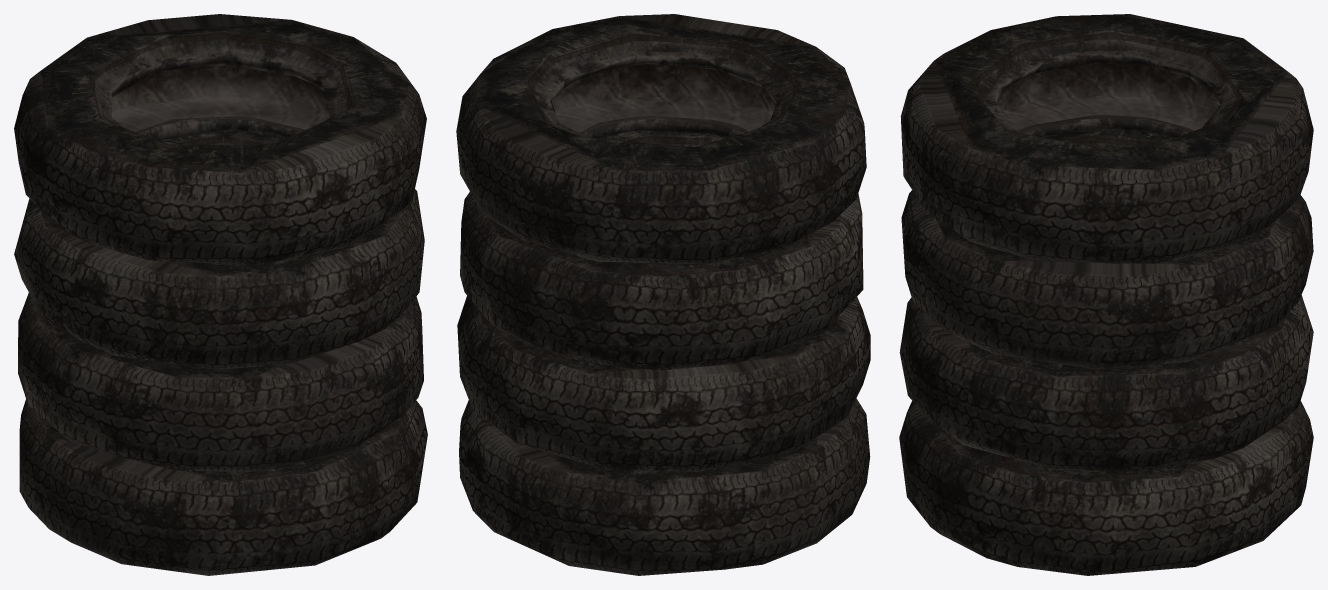
Rendered from tyres.glb.
3 renders of one model, left to right at view 1: azimuth 30°, elevation 25°; view 2: azimuth 150°, elevation 25°; view 3: azimuth 270°, elevation 25°, orthographic.
Visible parts, largest first — view 1: body; view 2: body; view 3: body.
Part boxes in pixels (<box>): body: <box>14,14,427,575</box>; body: <box>456,14,870,575</box>; body: <box>899,14,1313,575</box>.
Size of the model in its own units: 0.9963 by 1.1 by 1.
Materials: 1 (1 with a texture image).
